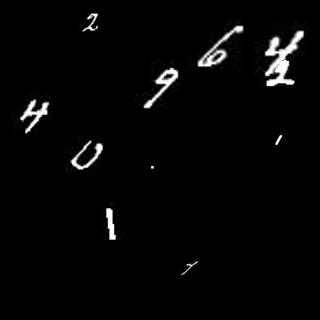dot: (149, 162, 157, 170)
four: (264, 29, 308, 74), (19, 96, 50, 138)
nine: (145, 66, 183, 109)
one: (104, 204, 119, 245), (272, 129, 285, 147)
seven: (178, 259, 200, 278)
six: (198, 24, 243, 69)
two: (268, 61, 299, 87), (80, 11, 101, 34)
zero: (70, 139, 107, 172)
